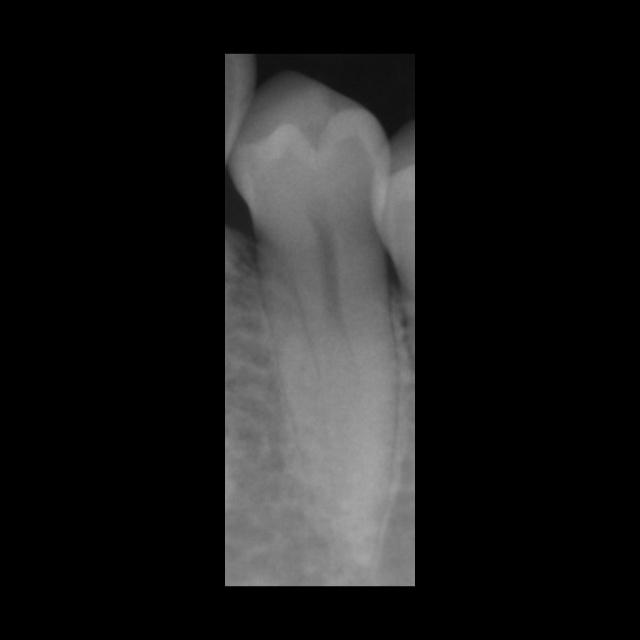tooth: (230, 74, 395, 546)
